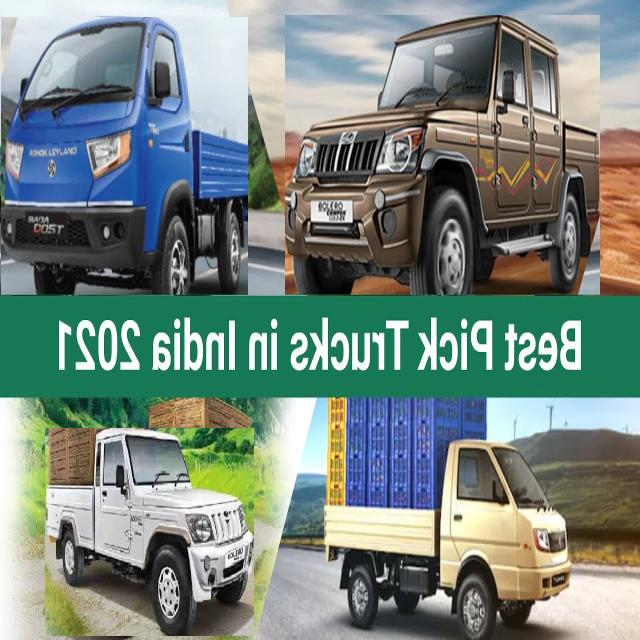truck: (285, 15, 600, 295), (0, 17, 248, 295), (325, 438, 571, 639), (45, 429, 254, 636)
